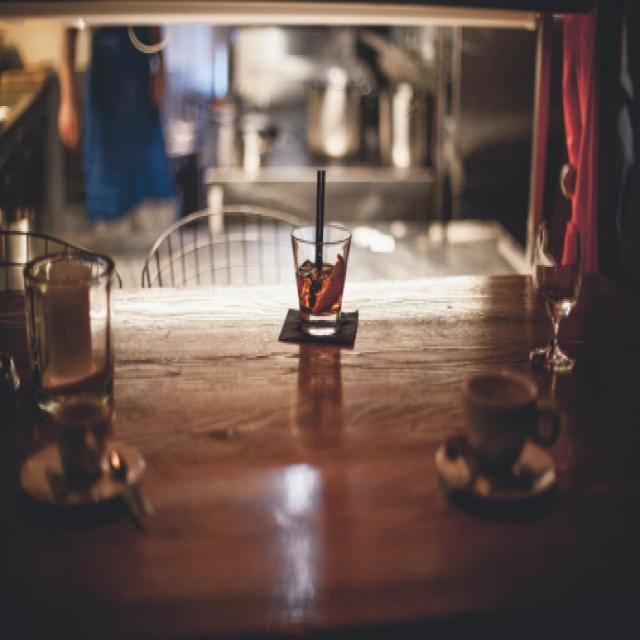Cup: (30, 253, 134, 483), (446, 358, 559, 542), (290, 217, 370, 359), (531, 218, 592, 359)
Table: (0, 195, 630, 640)
